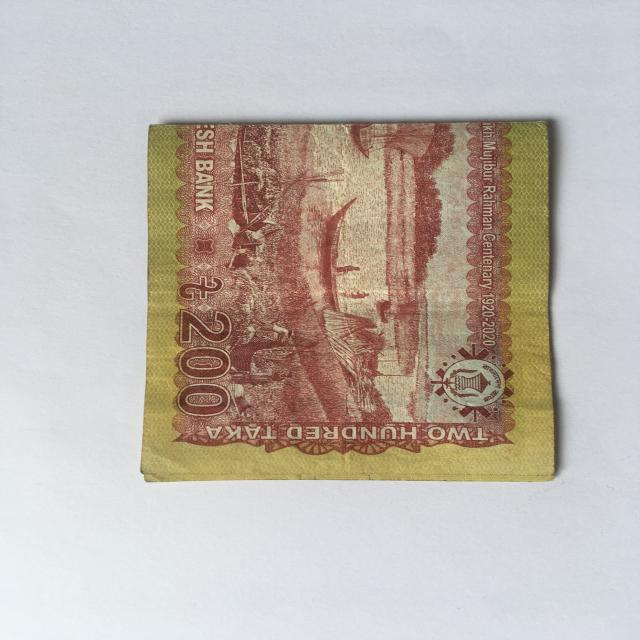Taka: (139, 115, 564, 490)
